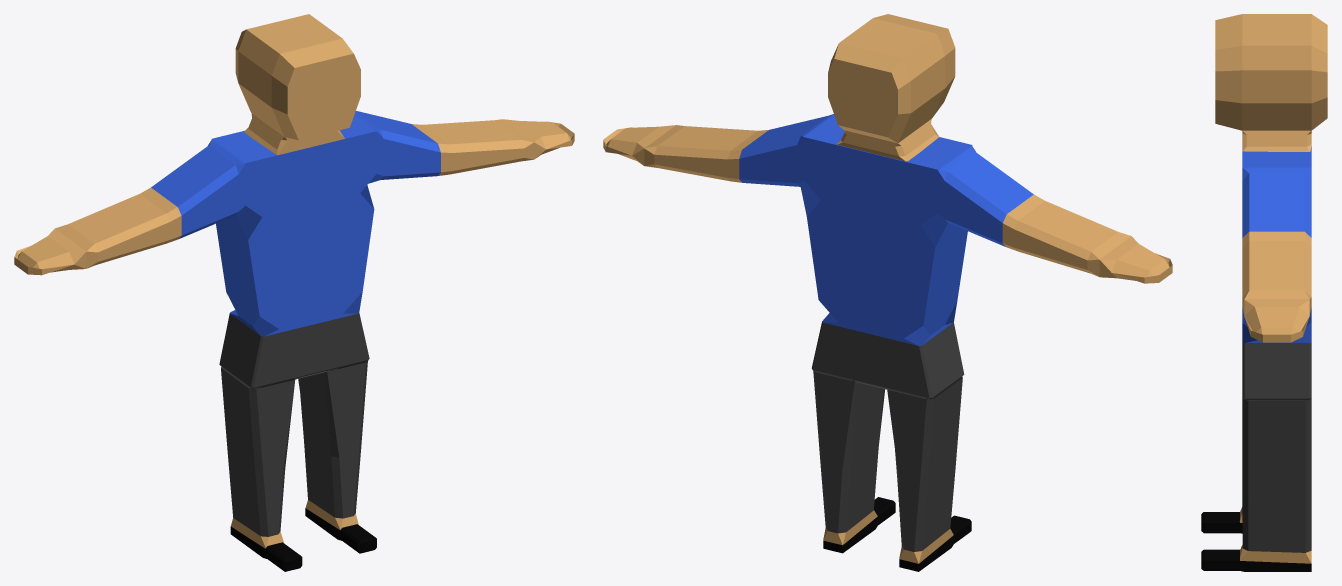
The model's file is character.fbx.
The picture shows the model from 3 angles, left to right: view 1: azimuth 30°, elevation 25°; view 2: azimuth 150°, elevation 25°; view 3: azimuth 270°, elevation 25°; orthographic projection. The views are drawn at different scales.
Visible parts, largest first — view 1: Character; view 2: Character; view 3: Character.
Part boxes in pixels (bbox=[...]): Character: bbox=[14, 14, 574, 571]; Character: bbox=[603, 14, 1172, 571]; Character: bbox=[1201, 14, 1327, 571].
Bounding box in the file's own units: 491 × 430 × 95.18.
